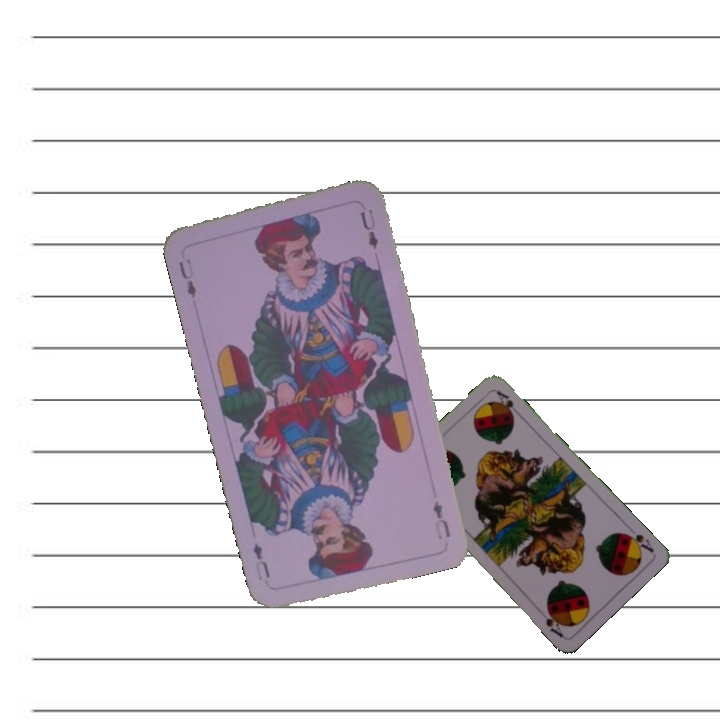EU: (174, 255, 199, 301), (428, 497, 453, 542)
SA: (619, 528, 656, 555)
